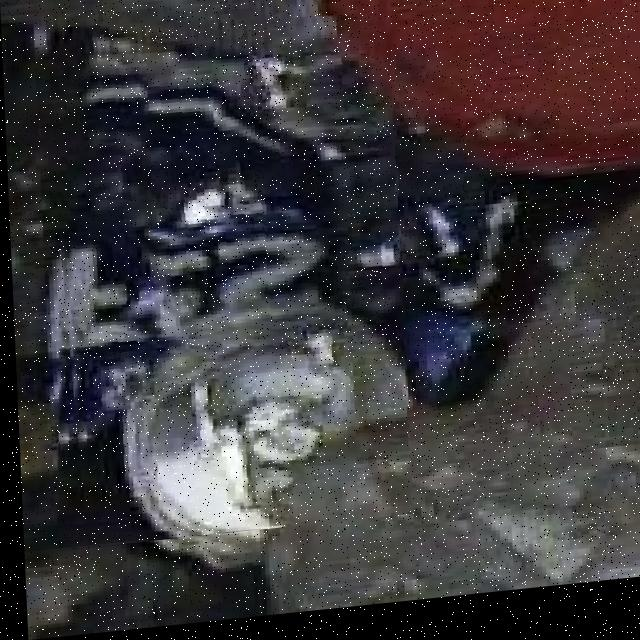litter: (41, 7, 406, 551)
